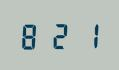eight: (18, 20, 44, 50)
one: (73, 19, 99, 49)
two: (46, 20, 72, 49)
